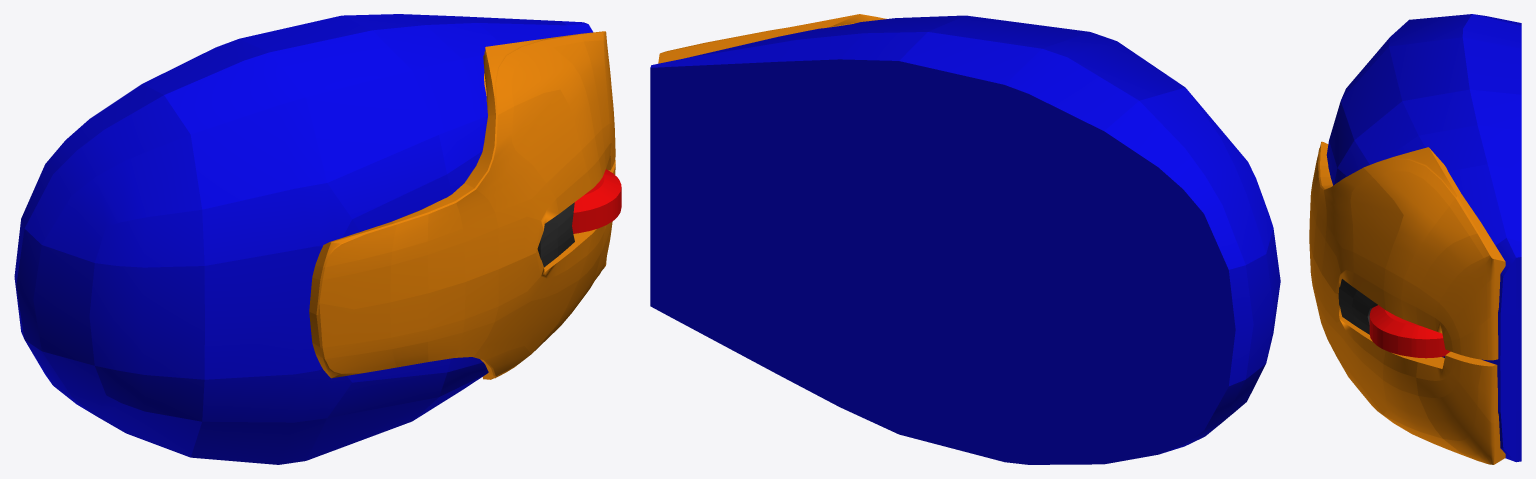
The model's file is mouse.fbx.
The picture shows the model from 3 angles, left to right: view 1: azimuth 30°, elevation 25°; view 2: azimuth 150°, elevation 25°; view 3: azimuth 270°, elevation 25°; orthographic projection. The views are drawn at different scales.
Parts seen in each view (by area): view 1: polySurface355, polySurface357, polySurface356, polySurface358; view 2: polySurface355, polySurface357; view 3: polySurface357, polySurface355, polySurface356, polySurface358.
Part boxes in pixels (x1,y1,x2,y2): polySurface355: (14, 14, 592, 464); polySurface357: (309, 31, 615, 379); polySurface356: (572, 169, 621, 233); polySurface358: (537, 202, 574, 267); polySurface355: (650, 15, 1280, 464); polySurface357: (658, 14, 886, 63); polySurface357: (1309, 141, 1505, 464); polySurface355: (1326, 14, 1521, 462); polySurface356: (1369, 305, 1450, 358); polySurface358: (1338, 279, 1377, 334).
Bounding box in the file's own units: 12.13 × 7.68 × 4.3.
